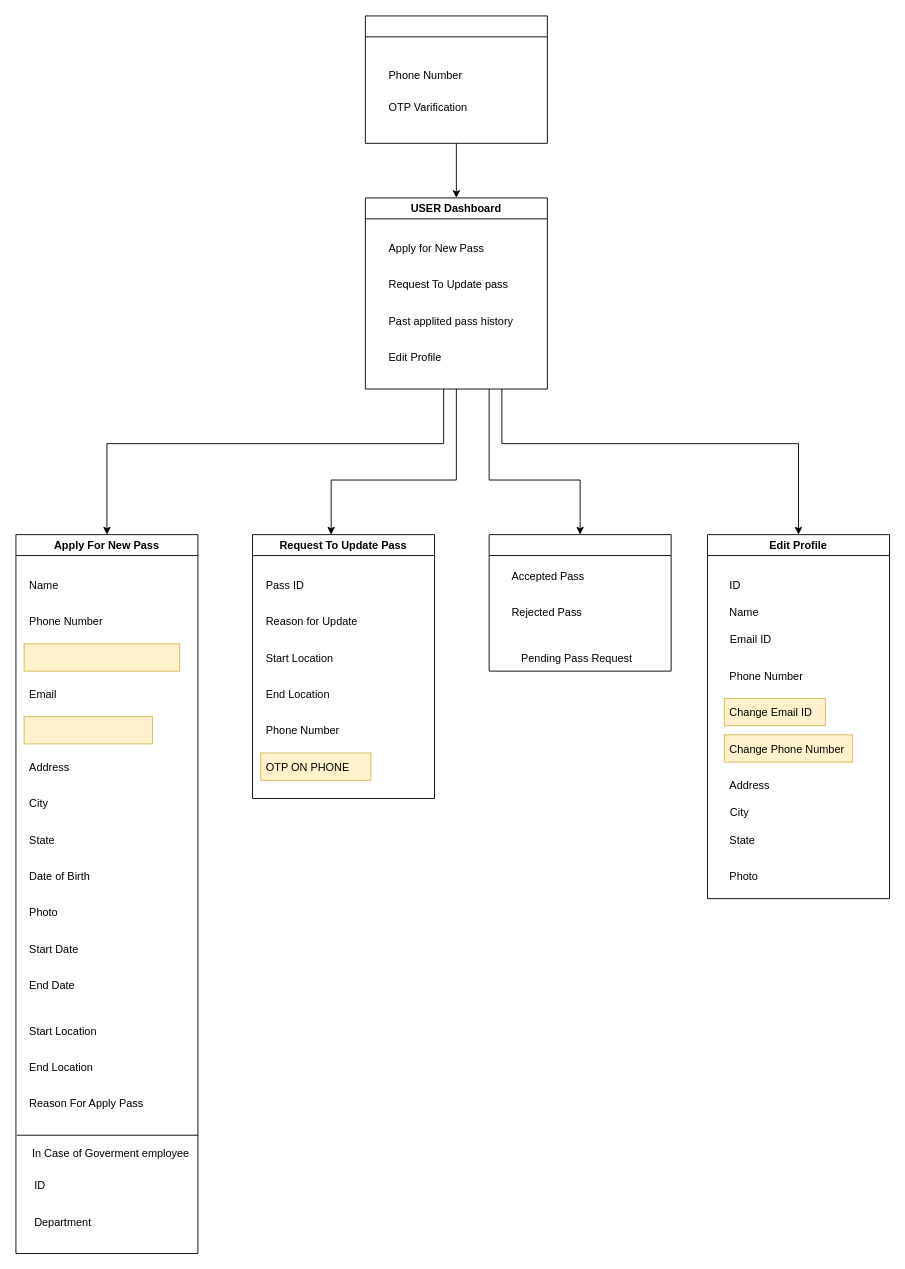
This 905x1269 diagram has some shape labels left out. Each missing label, with the box of its shape:
OTP ON EMAIL: (23, 716, 152, 744)
OTP ON PHONE NUMBER: (23, 643, 180, 671)
Pass History: (488, 534, 671, 671)
USER LOGIN/REGISTER: (364, 15, 547, 143)
